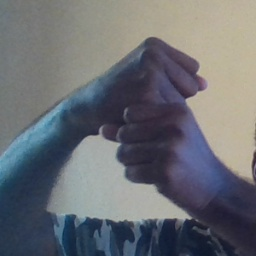G: (106, 33, 220, 189)
